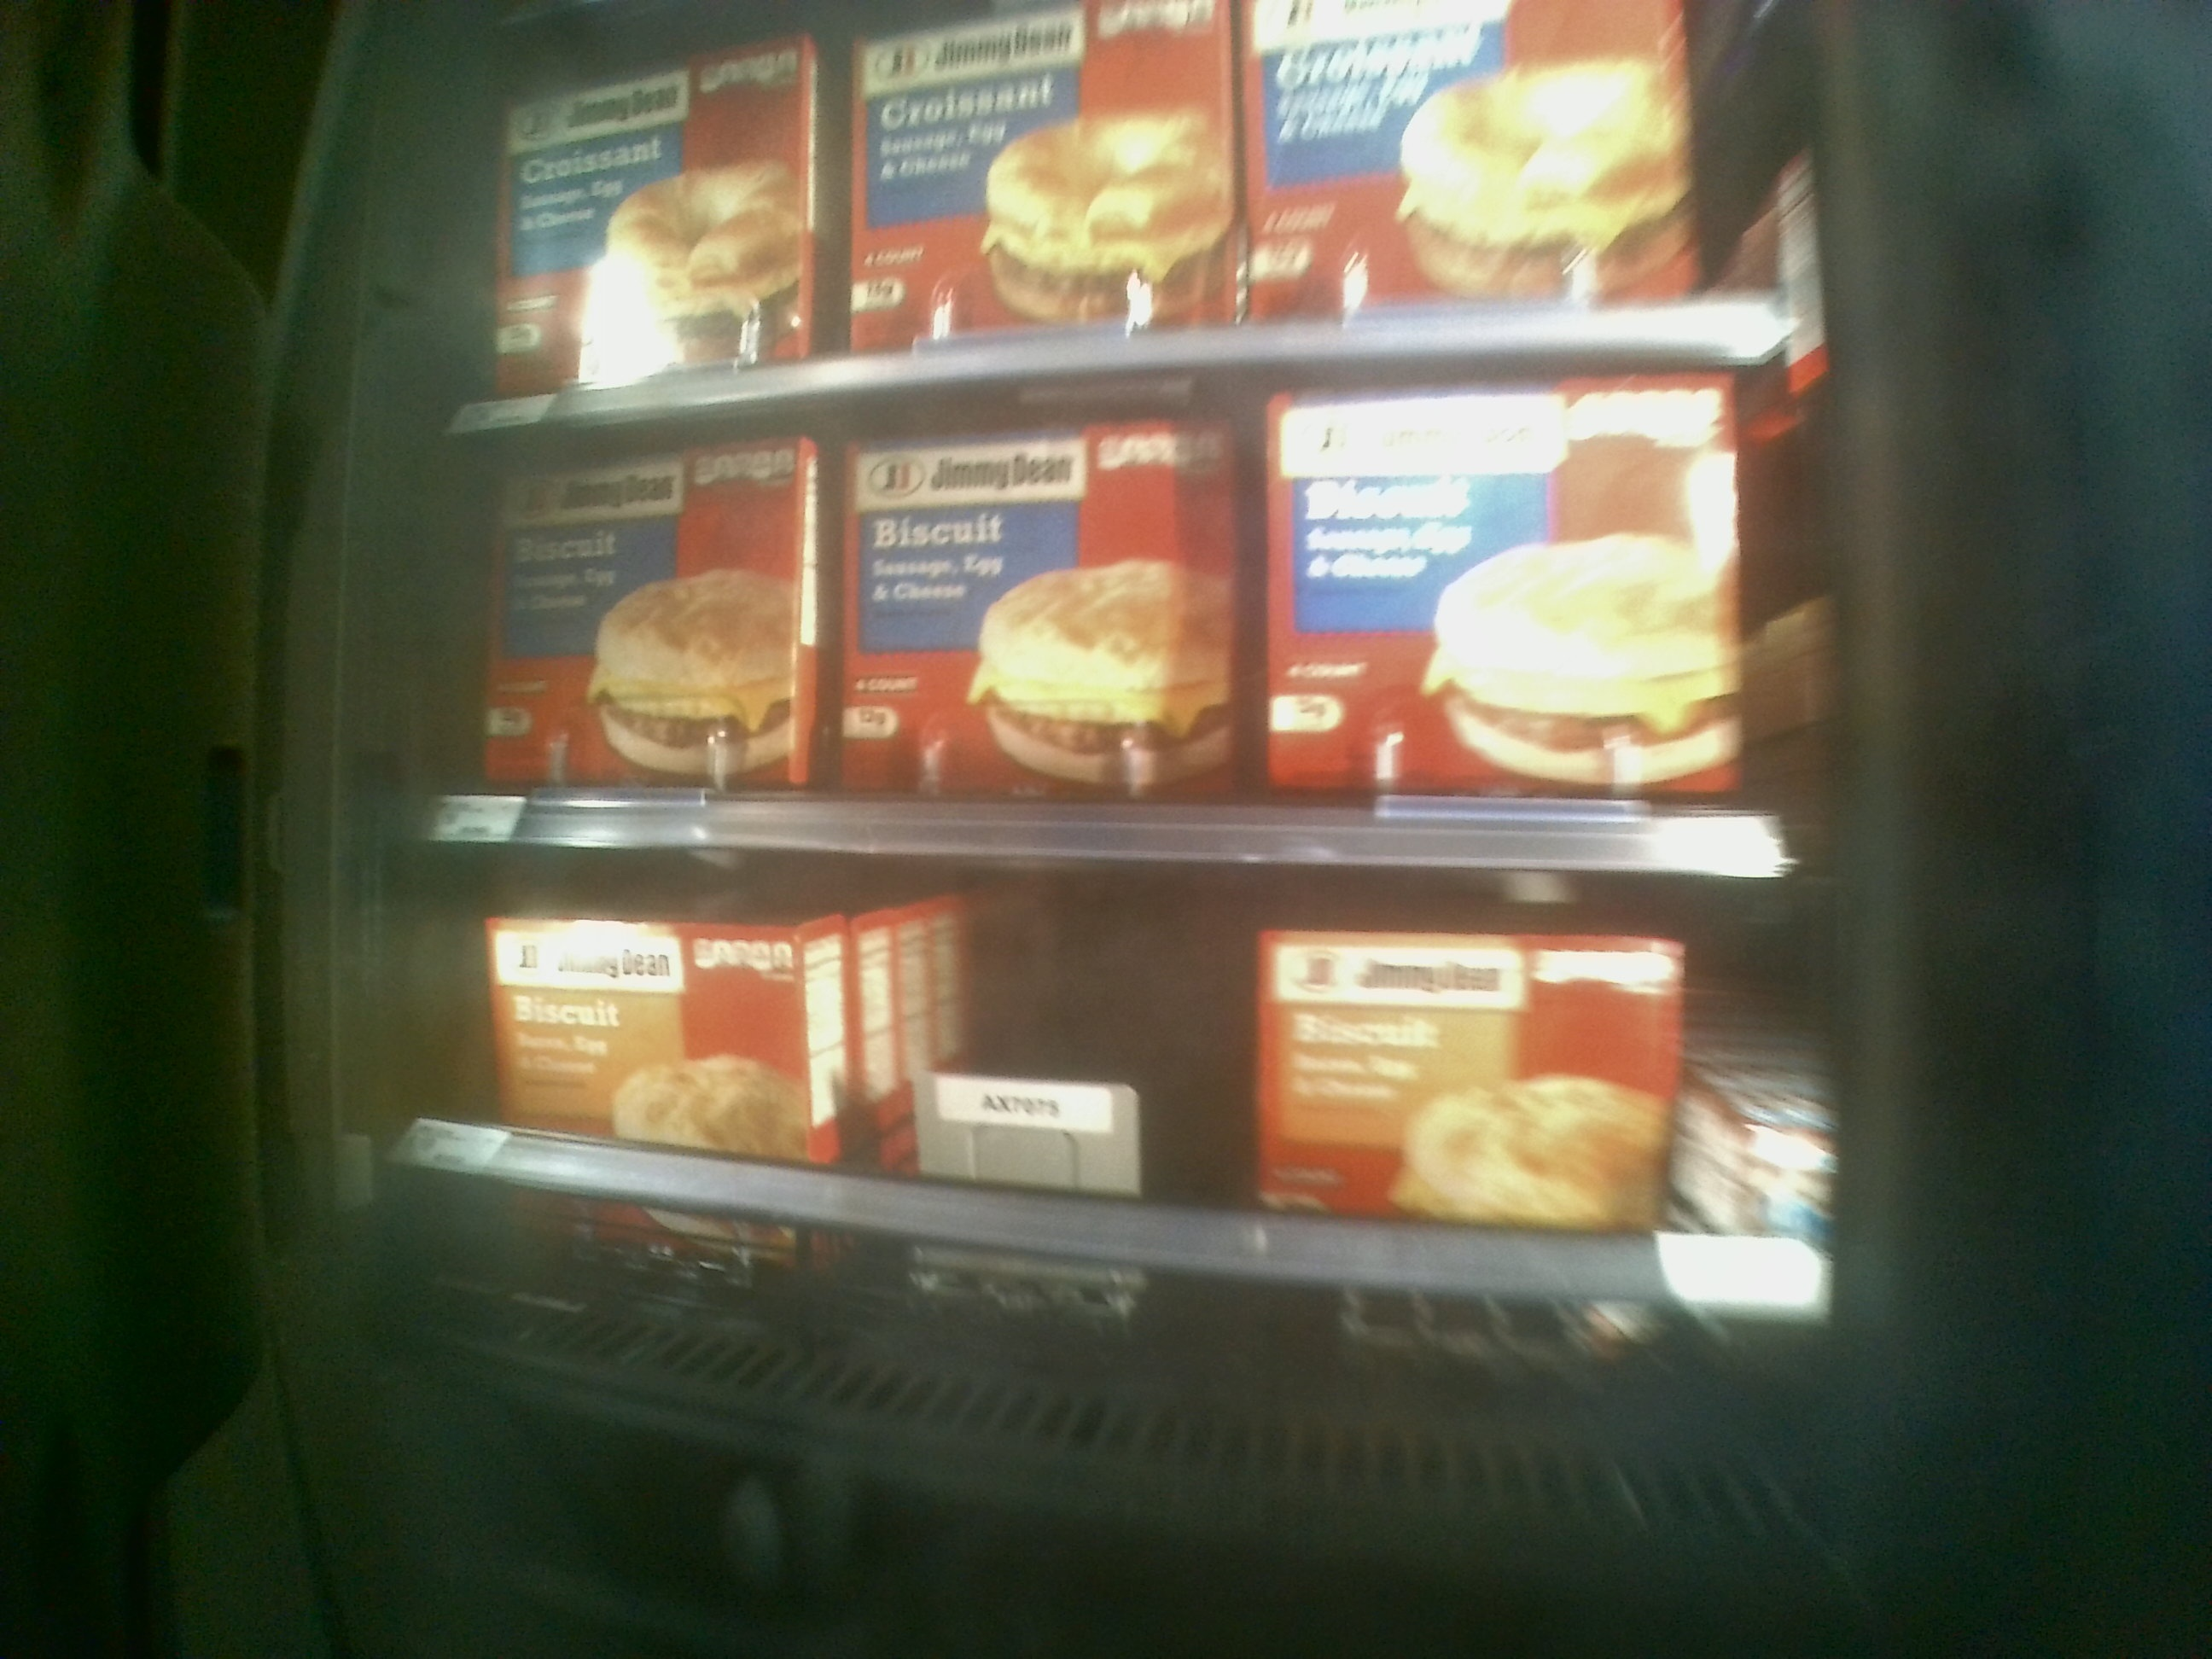shelf: (432, 840, 1839, 1394), (455, 343, 1818, 878)
